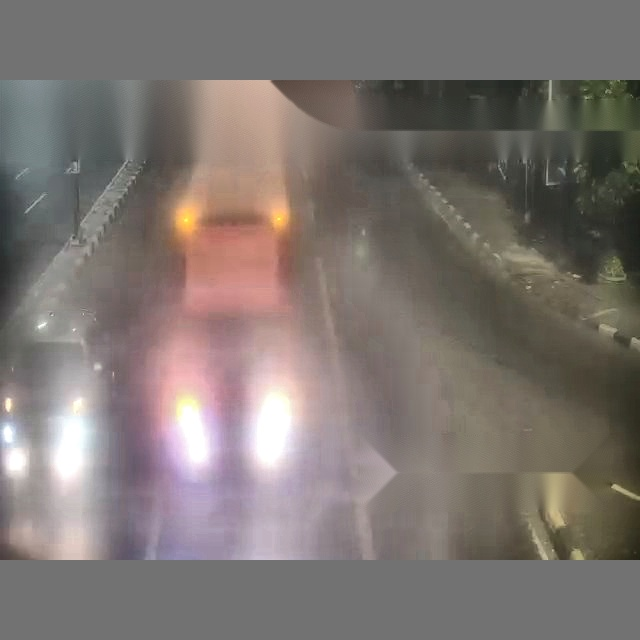Truk: (186, 50, 639, 558)
